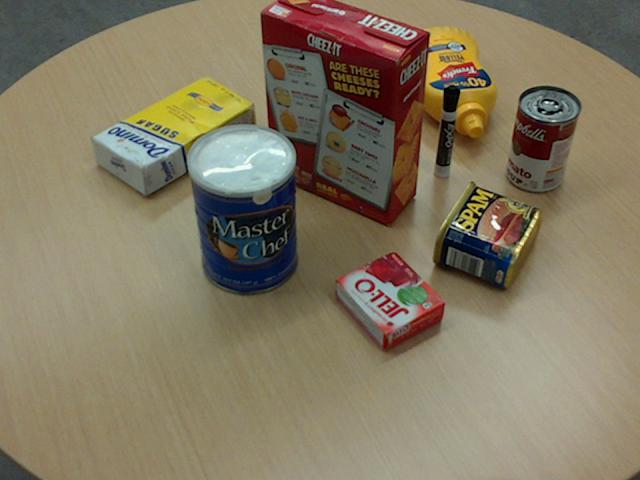cracker_box: (259, 0, 428, 224)
gelatin_box: (335, 250, 446, 349)
large_marker: (434, 85, 459, 176)
master_chef_can: (186, 123, 297, 295)
mug: (302, 32, 379, 124)
mustard_bottle: (401, 26, 496, 137)
potted_meat_can: (431, 179, 540, 286)
sugar_box: (90, 75, 255, 194)
tomato_soup_can: (506, 85, 580, 191)
tuna_fish_can: (331, 21, 394, 76)
